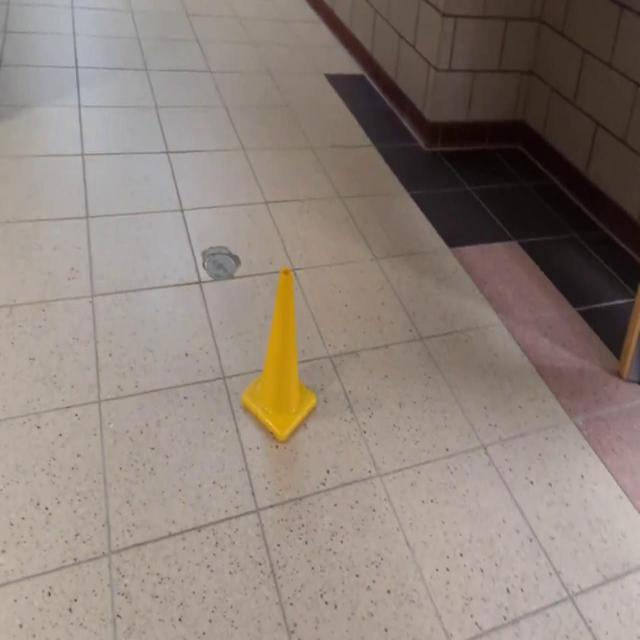frc_cone: (236, 264, 318, 444)
